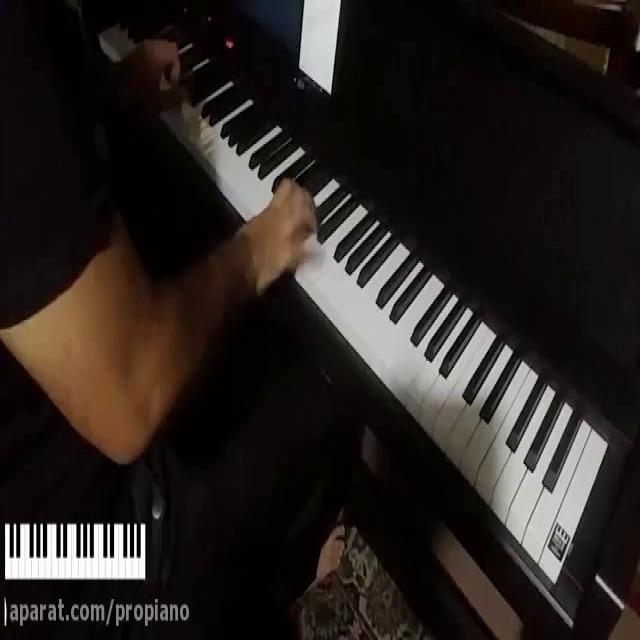Piano: (109, 25, 627, 609)
